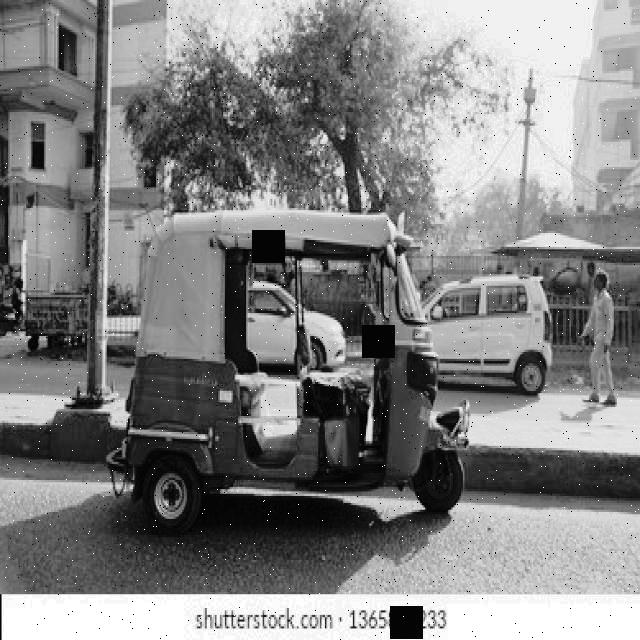Auto-Rickshaw: (133, 192, 476, 535)
